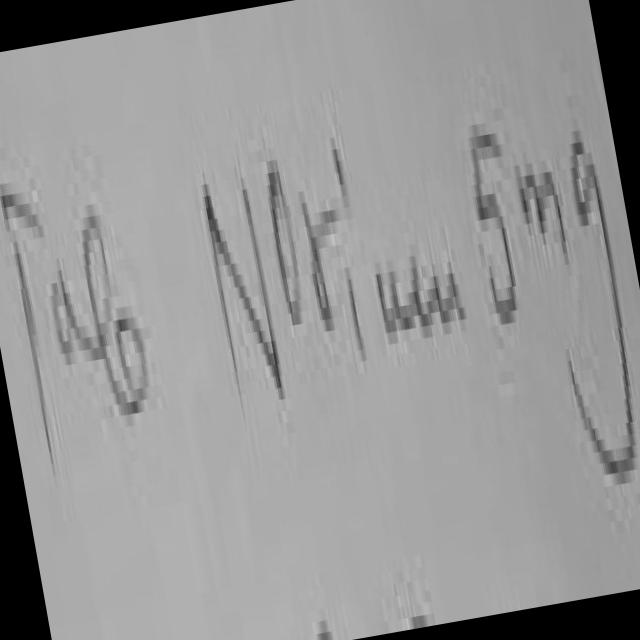5: (473, 124, 515, 316)
N: (205, 183, 282, 394)
T: (0, 182, 54, 469)
a: (48, 265, 95, 369)
b: (81, 199, 150, 443)
g: (569, 130, 635, 476)
i: (347, 267, 366, 354), (328, 135, 343, 202)
m: (401, 230, 468, 340), (512, 154, 570, 268)
o: (267, 161, 308, 347)
r: (300, 197, 338, 352)
u: (369, 251, 412, 347)
